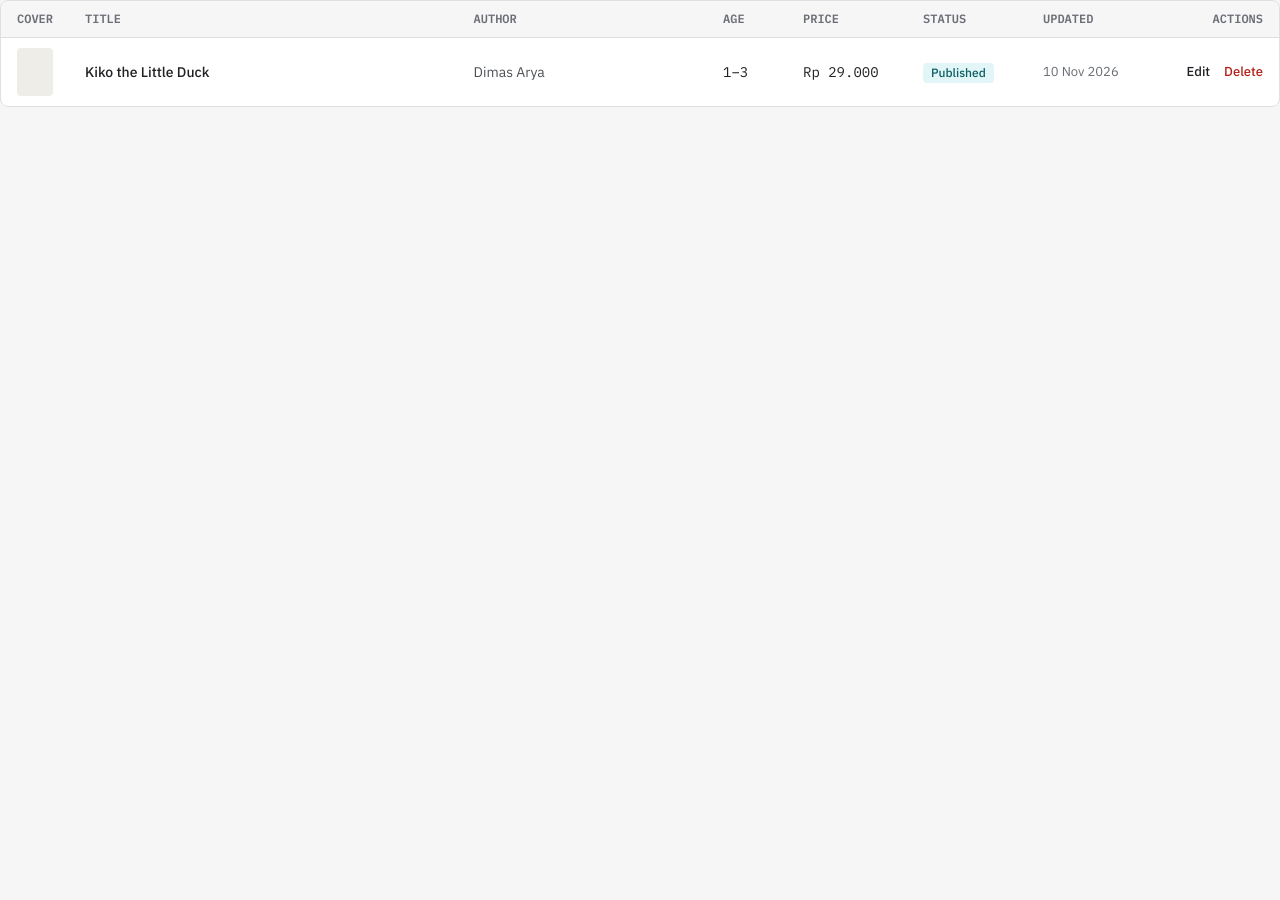
Test: BookTable › keeps the dialog open with the error when delete fails
Click the button with aria-label "Delete Kiko the Little Duck" at [1244, 72], box [1224, 63, 1263, 81]
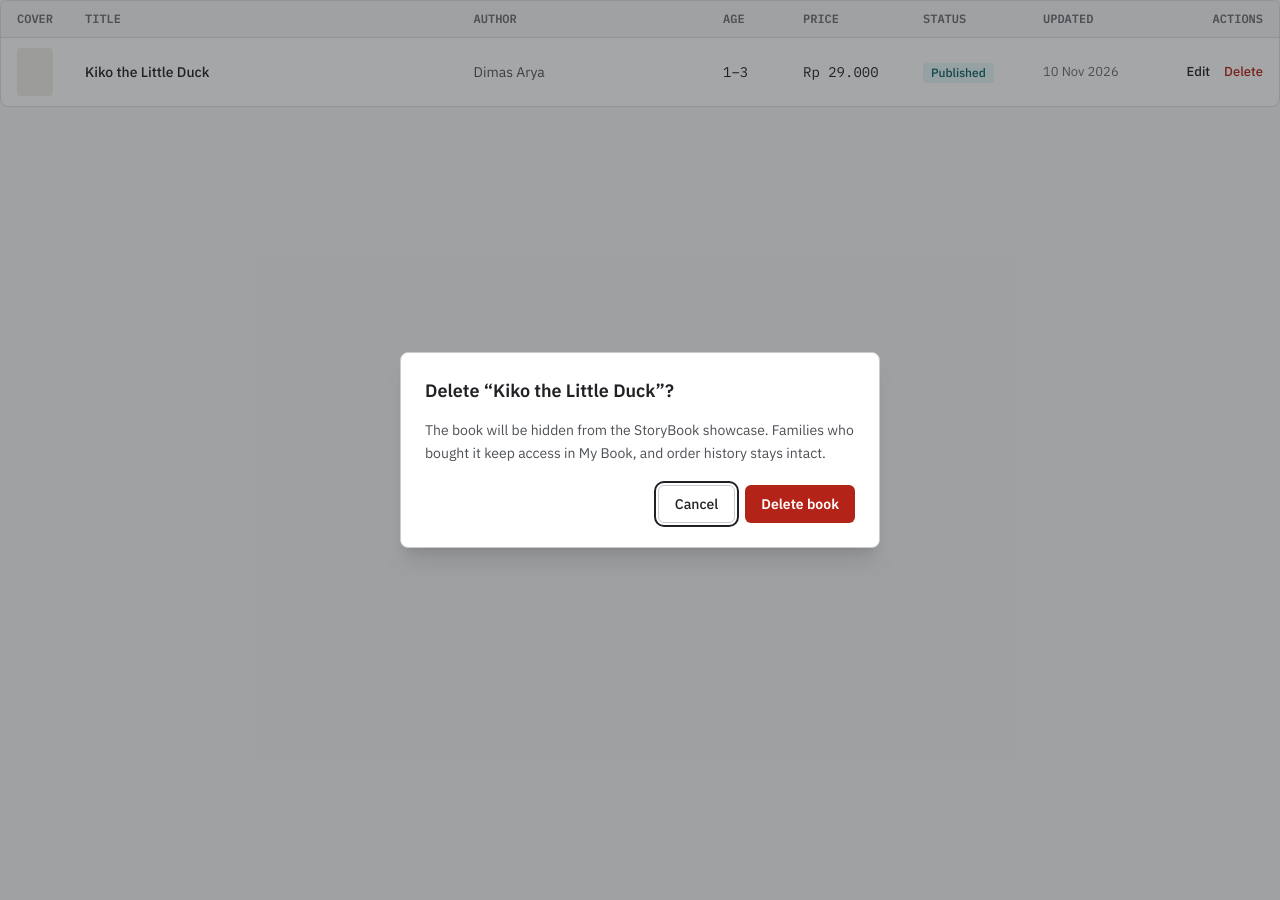
Click the button "Delete book" at [800, 504], box [745, 485, 855, 523]
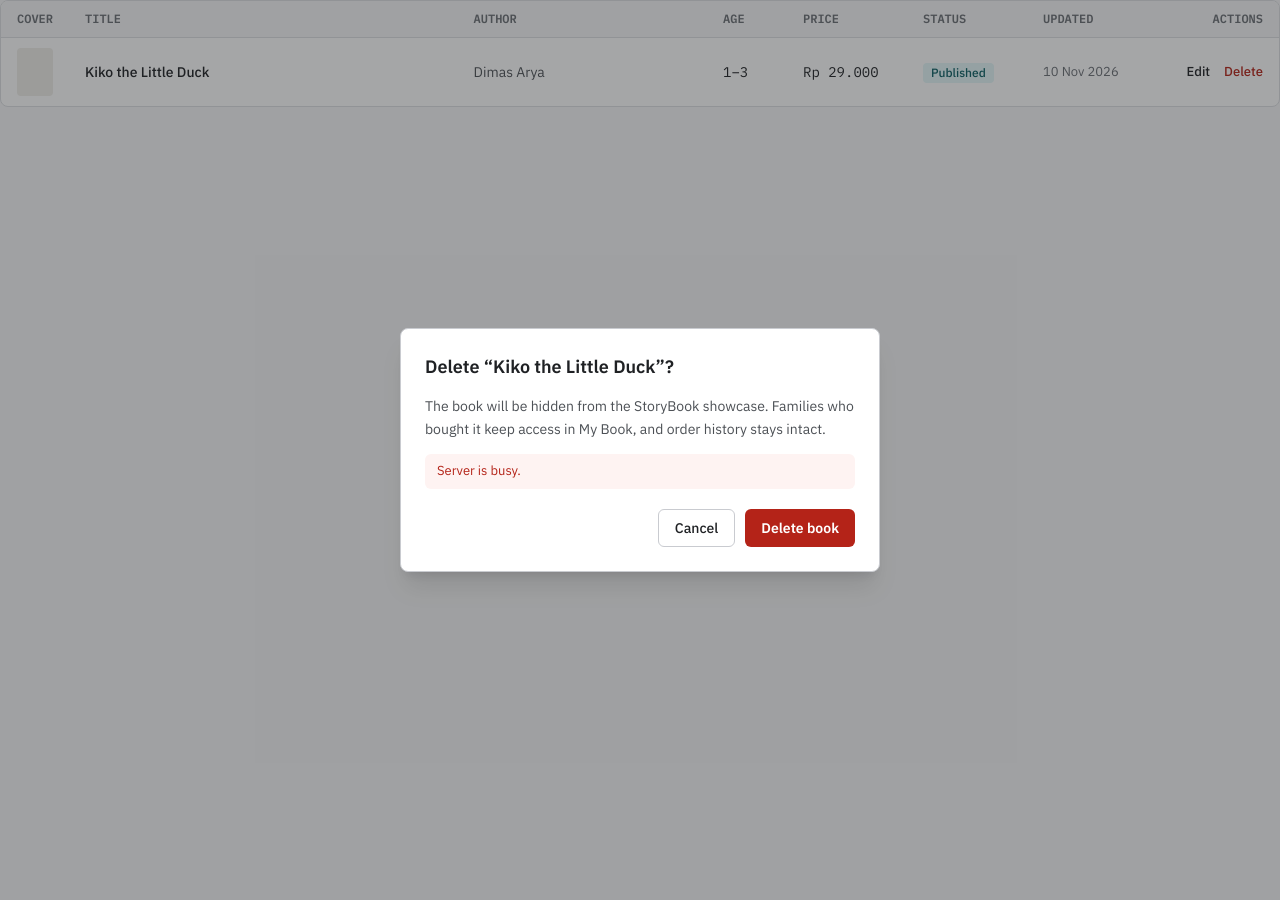
Expected: the message reads "Server is busy.", [437, 462, 521, 480]
